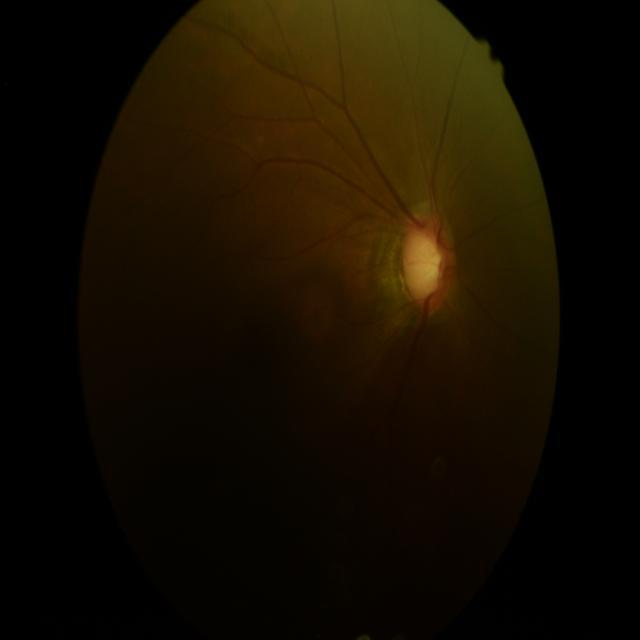cup: (402, 227, 445, 300)
disk: (398, 210, 458, 313)
